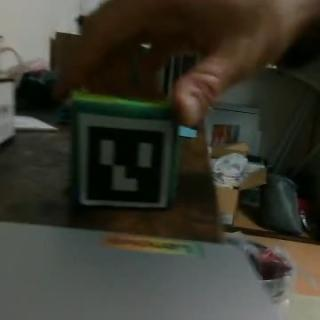armor: (80, 114, 170, 205)
robot: (72, 91, 176, 210)
